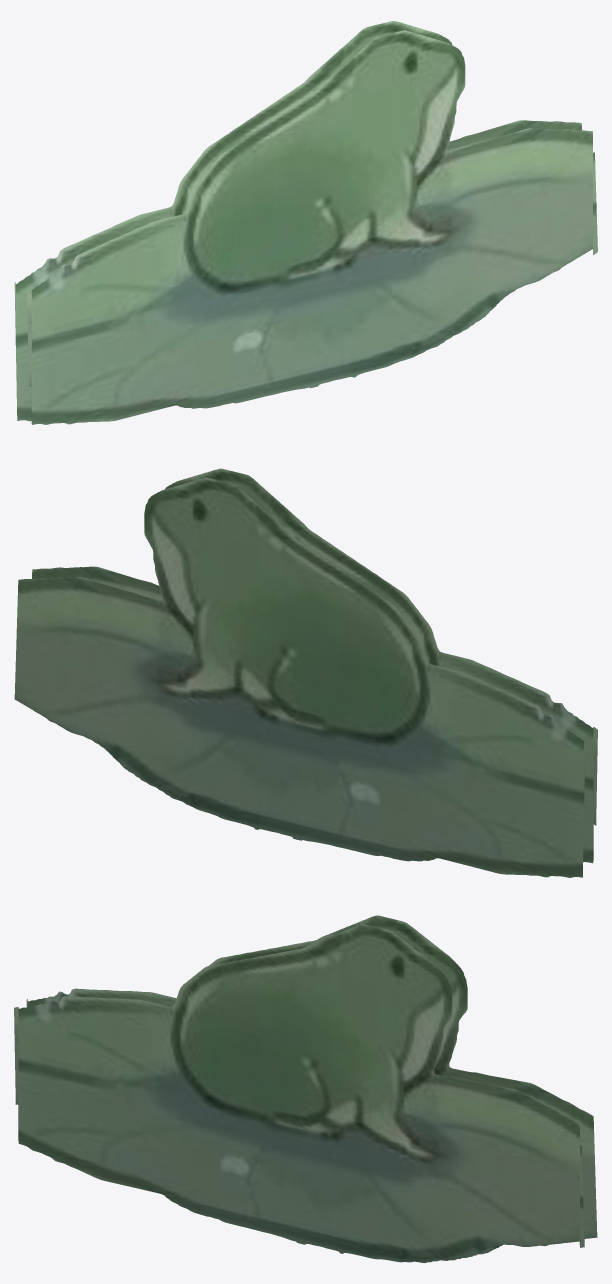
The model's file is 74276_autosave.fbx.
The picture shows the model from 3 angles, top to bottom: view 1: azimuth 30°, elevation 25°; view 2: azimuth 150°, elevation 25°; view 3: azimuth 330°, elevation 25°; orthographic projection.
Visible parts, largest first — view 1: Plane; view 2: Plane; view 3: Plane.
Part boxes in pixels (x1=…): Plane: x1=14, y1=21, x2=597, y2=424; Plane: x1=14, y1=468, x2=597, y2=877; Plane: x1=14, y1=915, x2=597, y2=1262.
Bounding box in the file's own units: 499 × 290 × 20.
Materials: 1 (1 with a texture image).
